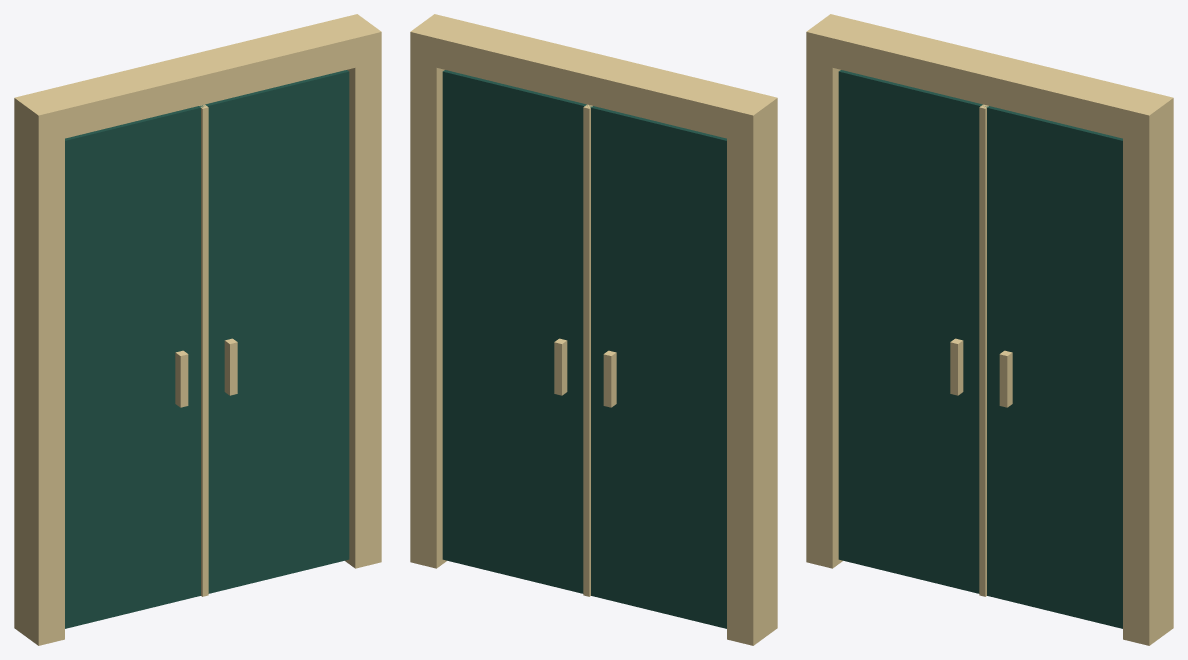
The model's file is entrance-portal-2026-11-04.glb.
3 views of the same model, side by side, from view 1: azimuth 30°, elevation 25°; view 2: azimuth 150°, elevation 25°; view 3: azimuth 330°, elevation 25° (orthographic).
Visible parts, largest first — view 1: portal-door, portal-trim; view 2: portal-door, portal-trim; view 3: portal-door, portal-trim.
Boxes of the visible parts, <box> form: portal-door: <box>65,70,349,628</box>; portal-trim: <box>14,14,381,645</box>; portal-door: <box>442,70,726,628</box>; portal-trim: <box>410,14,777,645</box>; portal-door: <box>838,70,1122,628</box>; portal-trim: <box>806,14,1173,645</box>.
Bounding box in the file's own units: 1.95 × 2.88 × 0.24.
